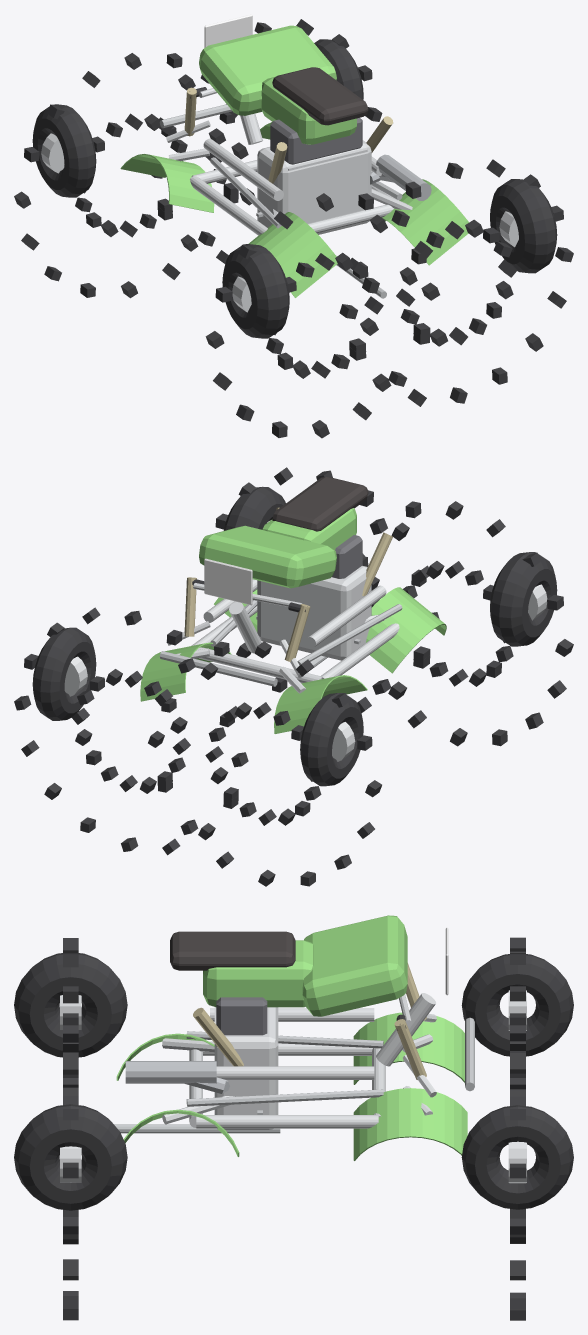
The model's file is atv90.glb.
3 views of the same model, one above another, from view 1: azimuth 30°, elevation 25°; view 2: azimuth 150°, elevation 25°; view 3: azimuth 270°, elevation 25° (orthographic). The views are drawn at different scales.
Visible parts, largest first — view 1: b_hood, b_engine, b_wheel_rl_tire, b_wheel_rr_tire, b_wheel_fl_tire, b_seat, b_wheel_rr, b_rfender_-1, b_rfender_1, b_wheel_rl, b_tank, b_ffender_-1 (+12 smaller); view 2: b_engine, b_hood, b_wheel_rl_tire, b_wheel_fr_tire, b_wheel_fl_tire, b_rfender_-1, b_seat, b_wheel_fr, b_wheel_fl, b_wheel_rl, b_ffender_-1, b_wheel_rr (+16 smaller); view 3: b_wheel_rr_tire, b_hood, b_wheel_rl_tire, b_wheel_fr_tire, b_wheel_fl_tire, b_ffender_1, b_seat, b_tank, b_engine, b_ffender_-1, b_rail_1, b_wheel_rr (+18 smaller).
Boxes of the visible parts, x1,y1,x2,y2 form: b_hood: [199, 25, 336, 115]; b_engine: [257, 140, 371, 234]; b_wheel_rl_tire: [222, 244, 289, 338]; b_wheel_rr_tire: [490, 179, 557, 273]; b_wheel_fl_tire: [32, 104, 96, 197]; b_seat: [272, 67, 368, 125]; b_wheel_rr: [339, 159, 573, 406]; b_rfender_-1: [248, 212, 337, 297]; b_rfender_1: [382, 179, 468, 265]; b_wheel_rl: [266, 252, 383, 378]; b_tank: [261, 76, 356, 144]; b_ffender_-1: [120, 154, 214, 212]; b_engine: [257, 565, 371, 660]; b_hood: [199, 525, 336, 588]; b_wheel_rl_tire: [490, 552, 557, 646]; b_wheel_fr_tire: [32, 627, 96, 720]; b_wheel_fl_tire: [300, 693, 363, 786]; b_rfender_-1: [366, 587, 446, 673]; b_seat: [272, 477, 368, 531]; b_wheel_fr: [14, 607, 248, 855]; b_wheel_fl: [205, 702, 321, 825]; b_wheel_rl: [403, 561, 513, 686]; b_ffender_-1: [274, 675, 367, 733]; b_wheel_rr: [215, 467, 439, 713]; b_wheel_rr_tire: [14, 1104, 127, 1210]; b_hood: [302, 915, 407, 1016]; b_wheel_rl_tire: [14, 953, 127, 1057]; b_wheel_fr_tire: [461, 1105, 573, 1209]; b_wheel_fl_tire: [461, 954, 573, 1056]; b_ffender_1: [353, 1088, 467, 1160]; b_seat: [170, 931, 295, 970]; b_tank: [203, 940, 313, 1007]; b_engine: [214, 1007, 278, 1129]; b_ffender_-1: [353, 1012, 464, 1084]; b_rail_1: [196, 1115, 378, 1128]; b_wheel_rr: [63, 1013, 78, 1320].
Bounding box in the file's own units: 2.14 × 1.59 × 2.46.
